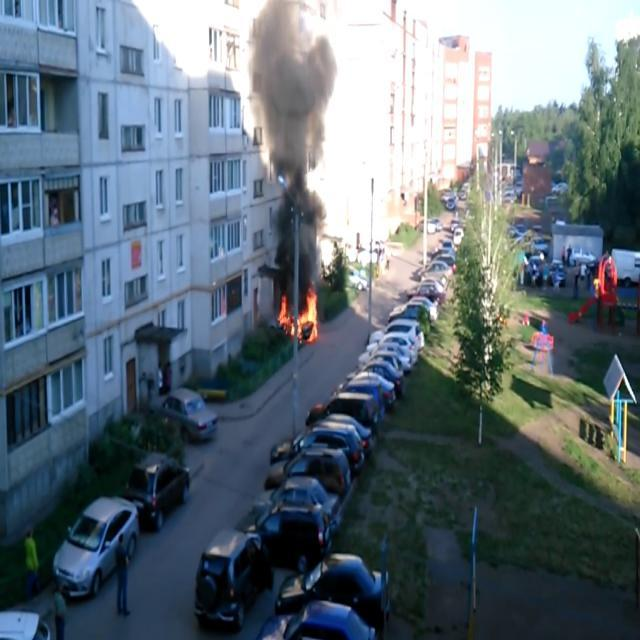Fire: (278, 284, 319, 344)
Smoke: (240, 1, 344, 298)
